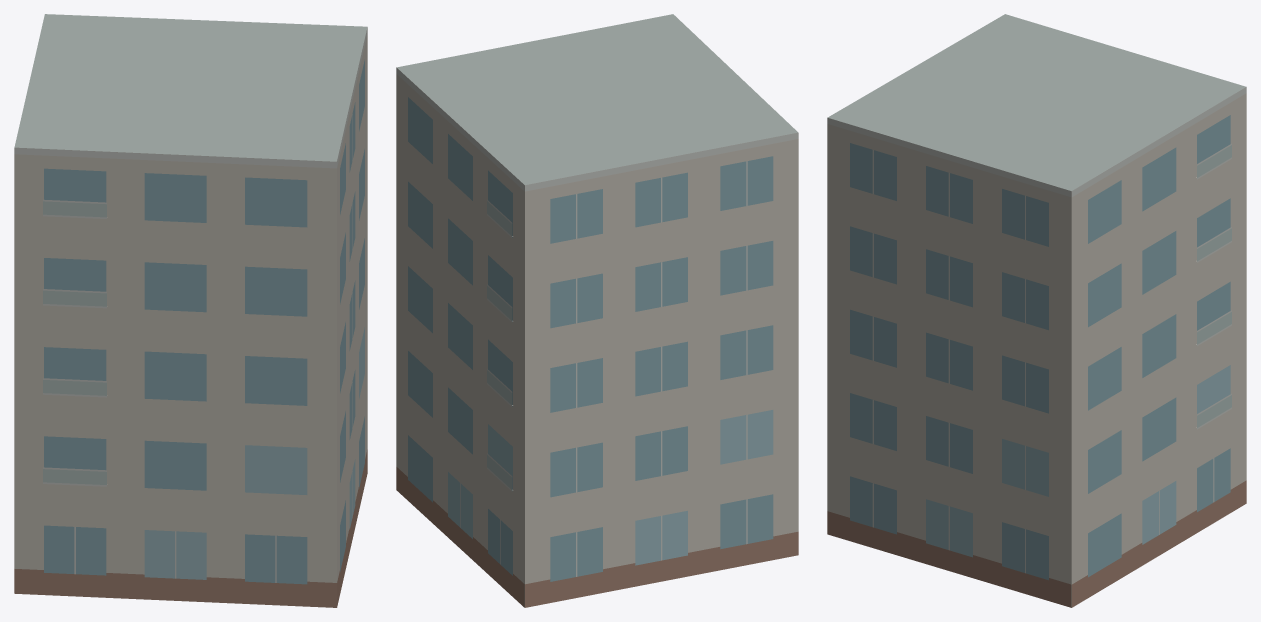
Rendered from survey-upis-32836780.glb.
3 renders of one model, left to right at view 1: azimuth 30°, elevation 25°; view 2: azimuth 150°, elevation 25°; view 3: azimuth 270°, elevation 25°, orthographic. The views are drawn at different scales.
Visible parts, largest first — view 1: survey-upis-32836780.tmp; view 2: survey-upis-32836780.tmp; view 3: survey-upis-32836780.tmp.
Part boxes in pixels (x1,y1,x2,y2): survey-upis-32836780.tmp: [14, 14, 367, 607]; survey-upis-32836780.tmp: [396, 14, 798, 607]; survey-upis-32836780.tmp: [827, 14, 1246, 607].
Size of the model in its own units: 14.78 by 16.2 by 14.78.
